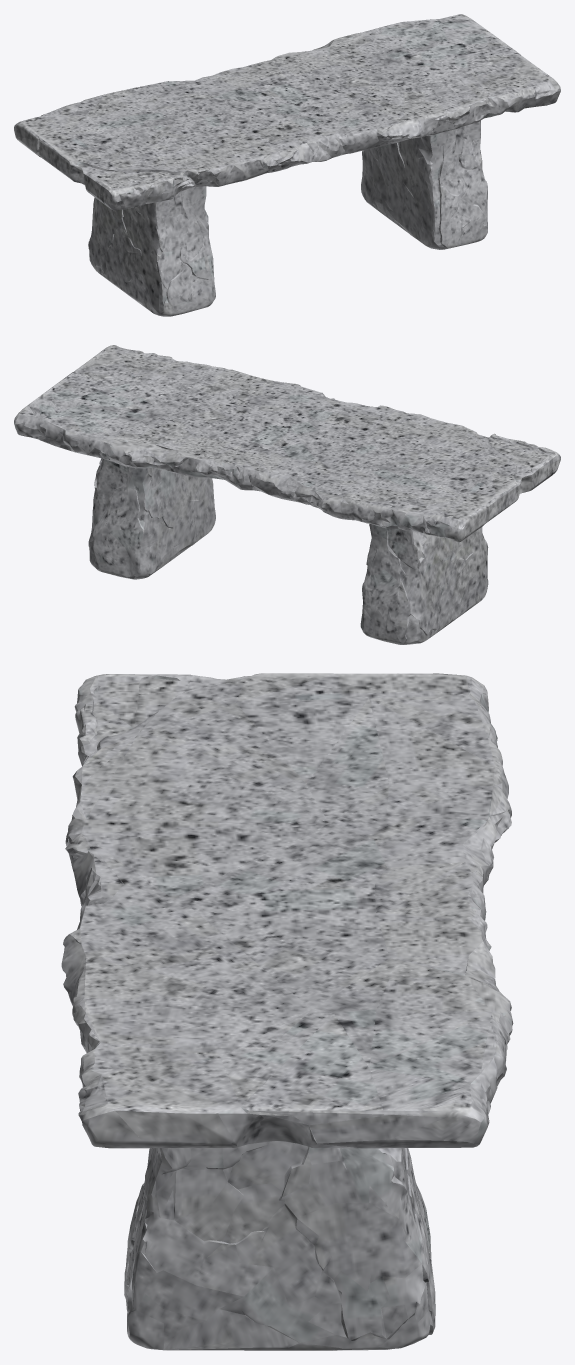
The model's file is stone_bench.glb.
The picture shows the model from 3 angles, top to bottom: view 1: azimuth 30°, elevation 25°; view 2: azimuth 150°, elevation 25°; view 3: azimuth 270°, elevation 25°; orthographic projection. The views are drawn at different scales.
Size of the model in its own units: 1.9 by 0.6094 by 0.8265.
1 material, 1 textured.
